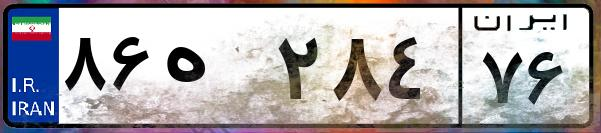2: (270, 28, 330, 110)
4: (385, 28, 445, 110)
6: (525, 38, 570, 115), (110, 28, 158, 98)
7: (475, 38, 525, 113)
8: (330, 28, 385, 110), (57, 26, 110, 100)
ه: (158, 20, 270, 120)
